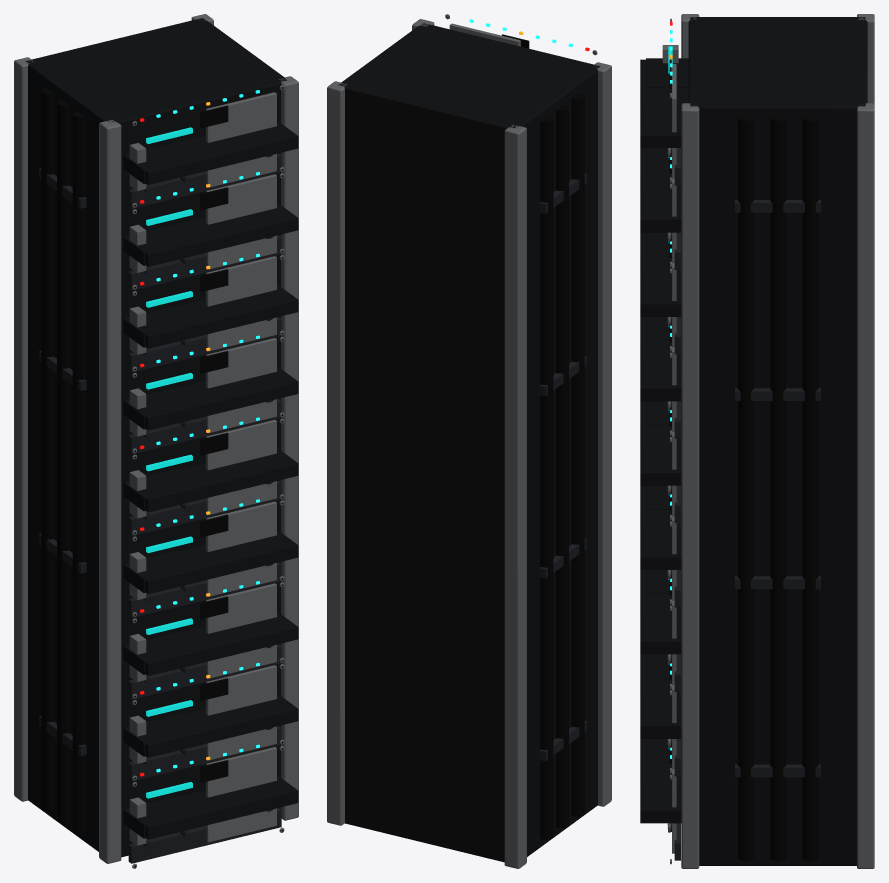
Rendered from server_rack.glb.
3 renders of one model, left to right at view 1: azimuth 30°, elevation 25°; view 2: azimuth 150°, elevation 25°; view 3: azimuth 270°, elevation 25°, orthographic. The views are drawn at different scales.
Visible parts, largest first — view 1: Bays, Column, Cables, Data; view 2: Column, Cables, Bays; view 3: Column, Cables, Bays.
Boxes of the visible parts, <box> form: Bays: <box>123,85,298,868</box>; Column: <box>14,14,298,863</box>; Cables: <box>39,88,86,834</box>; Data: <box>146,127,192,798</box>; Column: <box>327,19,611,868</box>; Cables: <box>539,93,586,839</box>; Bays: <box>445,14,597,55</box>; Column: <box>681,14,874,868</box>; Cables: <box>735,117,820,860</box>; Bays: <box>640,18,688,864</box>.
Bounding box in the file's own units: 0.656 × 2.38 × 0.6549.
